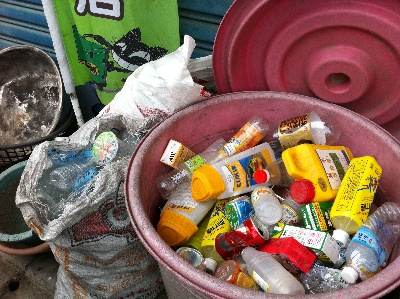bottle: (335, 201, 400, 284), (192, 142, 282, 201), (333, 156, 383, 245), (281, 145, 355, 201), (239, 242, 305, 299), (215, 214, 269, 260)
bowl: (1, 43, 65, 149)
plastic_bag: (14, 34, 209, 299)
plate: (212, 1, 400, 141)
